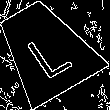L_NW: (17, 20, 74, 79)
